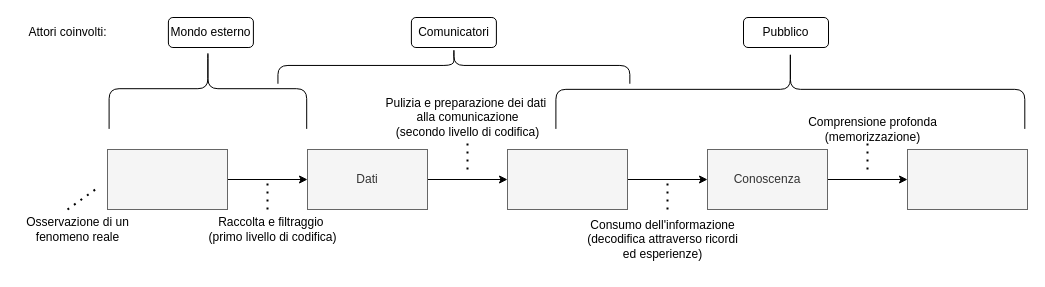
Some shapes in this 1045 by 287 pixel diagram are drawn without their labels. Here are the shapes that lost their labels. From the top down, the centre of each, then its label:
At pixel 167 179: "Informazione non strutturata".
At pixel 567 179: "Informazione strutturata".
At pixel 967 179: "Saggezza".
